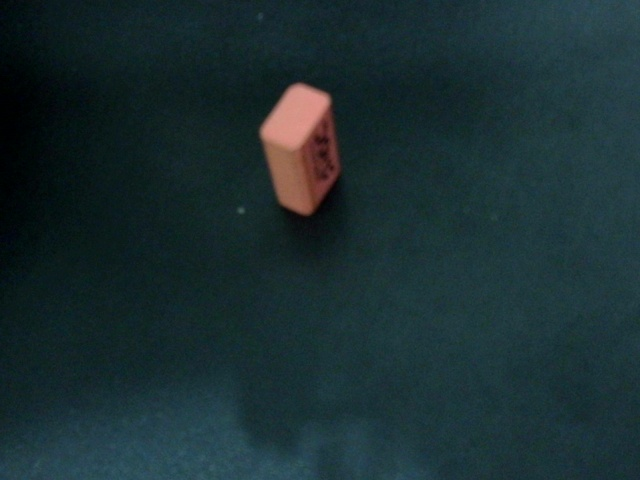eraser: (247, 64, 359, 231)
